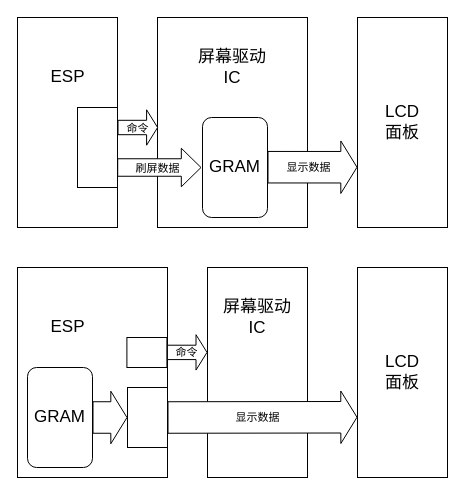
Image size: 465x495. Some labels were removed from this diagram. The centre of each missing label's shape, as x and y in pixels:
"I2C/ SPI/ 8080" belongs at pixel 97 147.
"RGB" belongs at pixel 147 417.
"SPI" belongs at pixel 146 352.
